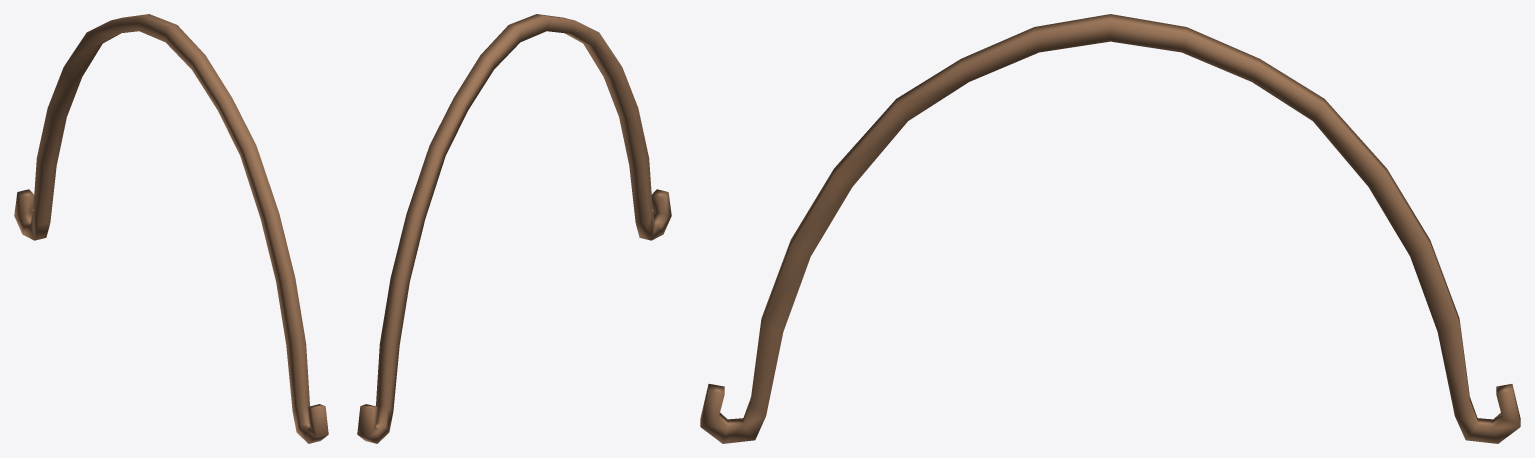
The model's file is Cauldron_Handle.fbx.
The picture shows the model from 3 angles, left to right: view 1: azimuth 30°, elevation 25°; view 2: azimuth 150°, elevation 25°; view 3: azimuth 270°, elevation 25°; orthographic projection. The views are drawn at different scales.
Parts seen in each view (by area): view 1: Cauldron_Handle; view 2: Cauldron_Handle; view 3: Cauldron_Handle.
Part boxes in pixels (box(x1,y1,x2,y2)): Cauldron_Handle: box(14, 14, 328, 443); Cauldron_Handle: box(357, 14, 671, 443); Cauldron_Handle: box(700, 14, 1520, 443).
Bounding box in the file's own units: 2.19 × 55.06 × 97.
